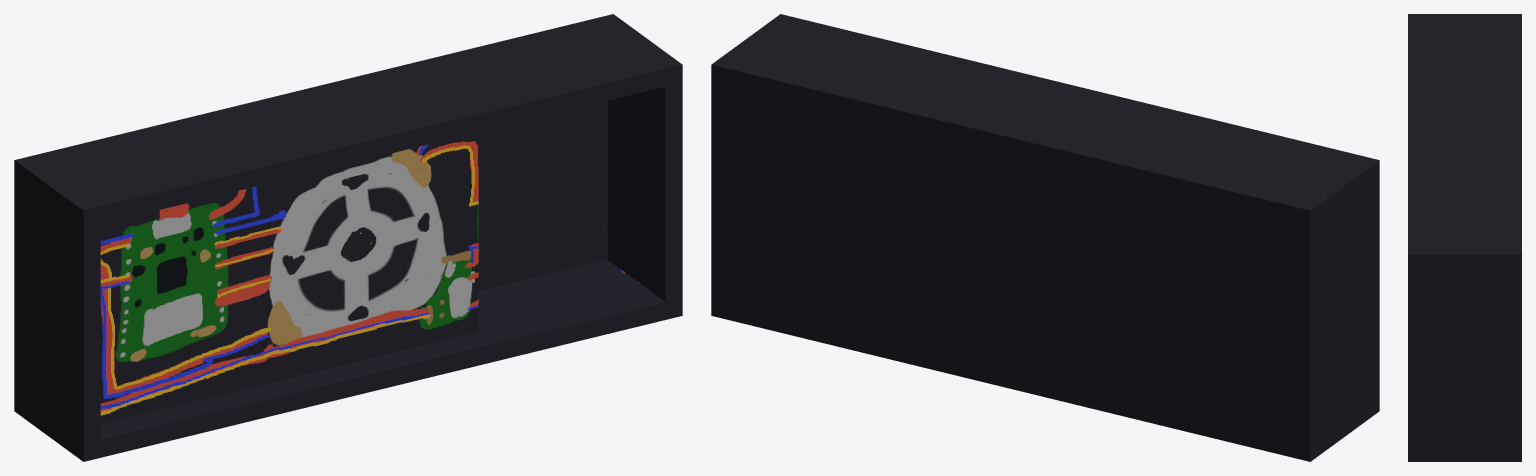
File: broken_timer_base.glb
The picture shows the model from 3 angles, left to right: view 1: azimuth 30°, elevation 25°; view 2: azimuth 150°, elevation 25°; view 3: azimuth 270°, elevation 25°; orthographic projection. The views are drawn at different scales.
Visible parts, largest first — view 1: Broken Timer; view 2: Broken Timer; view 3: Broken Timer.
Boxes of the visible parts, x1,y1,x2,y2 form: Broken Timer: [14, 14, 682, 461]; Broken Timer: [711, 14, 1379, 461]; Broken Timer: [1408, 14, 1521, 461].
Size of the model in its own units: 2.5 by 1 by 0.4989.
Materials: 1 (1 with a texture image).
